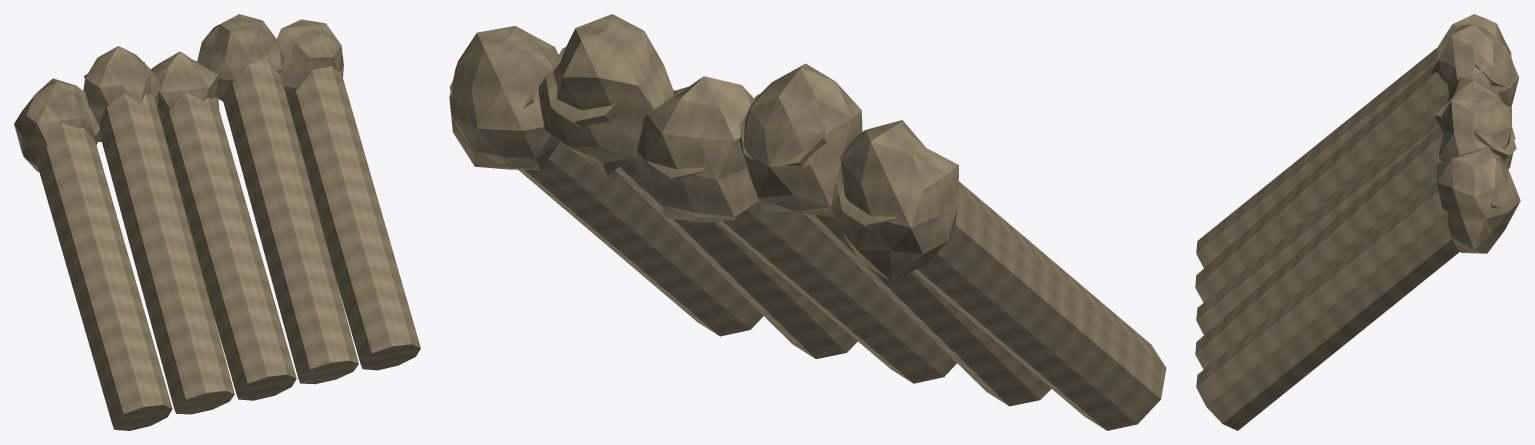
Rendered from underworld-resource-titanbone.glb.
The picture shows the model from 3 angles, left to right: view 1: azimuth 30°, elevation 25°; view 2: azimuth 150°, elevation 25°; view 3: azimuth 270°, elevation 25°; orthographic projection. The views are drawn at different scales.
Parts seen in each view (by area): view 1: bone-1, bone-3, bone-0, bone-2, bone-4, worn-joint-3, worn-joint-0, worn-joint-1, worn-joint-4, worn-joint-2; view 2: bone-0, bone-4, bone-2, worn-joint-0, worn-joint-2, worn-joint-1, worn-joint-3, worn-joint-4, bone-3, bone-1; view 3: bone-4, bone-3, bone-1, worn-joint-4, bone-0, bone-2, worn-joint-1, worn-joint-3, worn-joint-0, worn-joint-2.
Part boxes in pixels (bbox=[...]): bone-1: bbox=[84, 62, 234, 414]; bone-3: bbox=[222, 56, 358, 384]; bone-0: bbox=[35, 123, 172, 430]; bone-2: bbox=[161, 63, 296, 400]; bone-4: bbox=[285, 66, 420, 370]; worn-joint-3: bbox=[197, 14, 284, 101]; worn-joint-0: bbox=[14, 78, 99, 171]; worn-joint-1: bbox=[83, 46, 159, 141]; worn-joint-4: bbox=[277, 19, 343, 92]; worn-joint-2: bbox=[151, 51, 219, 120]; bone-0: bbox=[836, 172, 1166, 430]; bone-4: bbox=[449, 81, 763, 336]; bone-2: bbox=[648, 87, 956, 383]; worn-joint-0: bbox=[840, 120, 959, 281]; worn-joint-2: bbox=[635, 76, 758, 222]; worn-joint-1: bbox=[739, 63, 862, 217]; worn-joint-3: bbox=[538, 14, 674, 175]; worn-joint-4: bbox=[449, 26, 559, 170]; bone-3: bbox=[546, 46, 857, 358]; bone-1: bbox=[739, 93, 1051, 406]; bone-4: bbox=[1196, 182, 1498, 430]; bone-3: bbox=[1195, 125, 1516, 369]; bone-1: bbox=[1195, 59, 1512, 302]; worn-joint-4: bbox=[1436, 146, 1520, 253]; bone-0: bbox=[1196, 48, 1512, 267]; bone-2: bbox=[1196, 116, 1515, 334]; worn-joint-1: bbox=[1430, 24, 1519, 107]; worn-joint-3: bbox=[1439, 89, 1511, 167]; worn-joint-0: bbox=[1436, 14, 1511, 59]; worn-joint-2: bbox=[1435, 77, 1513, 168].
Size of the model in its own units: 0.2094 by 0.1676 by 0.1562.
Materials: 1 (1 with a texture image).
